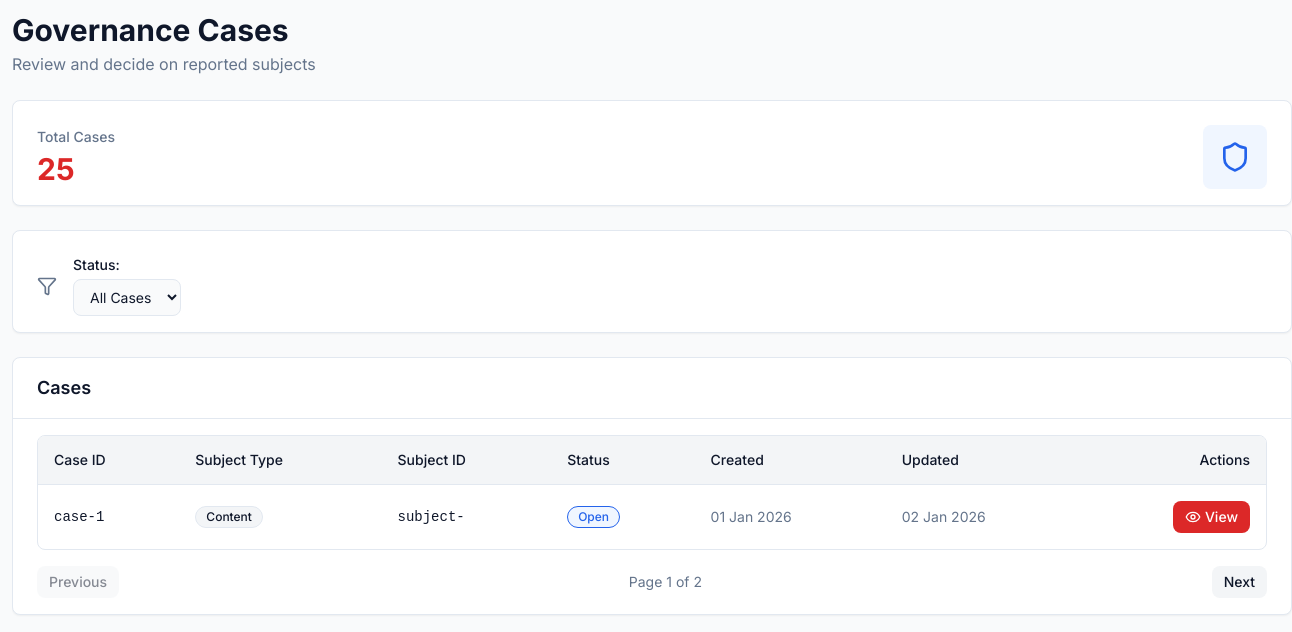
it: GovernanceCasesPage pagination (Task 5D) › derives truthful total pages from the server total and uses canonical pagination
This screenshot has width=1292, height=632.
Expected: the text "Page 1 of 2" is shown, 629,572 -> 702,592
Click the button "Next": (1239, 582) 1212,566 -> 1267,598
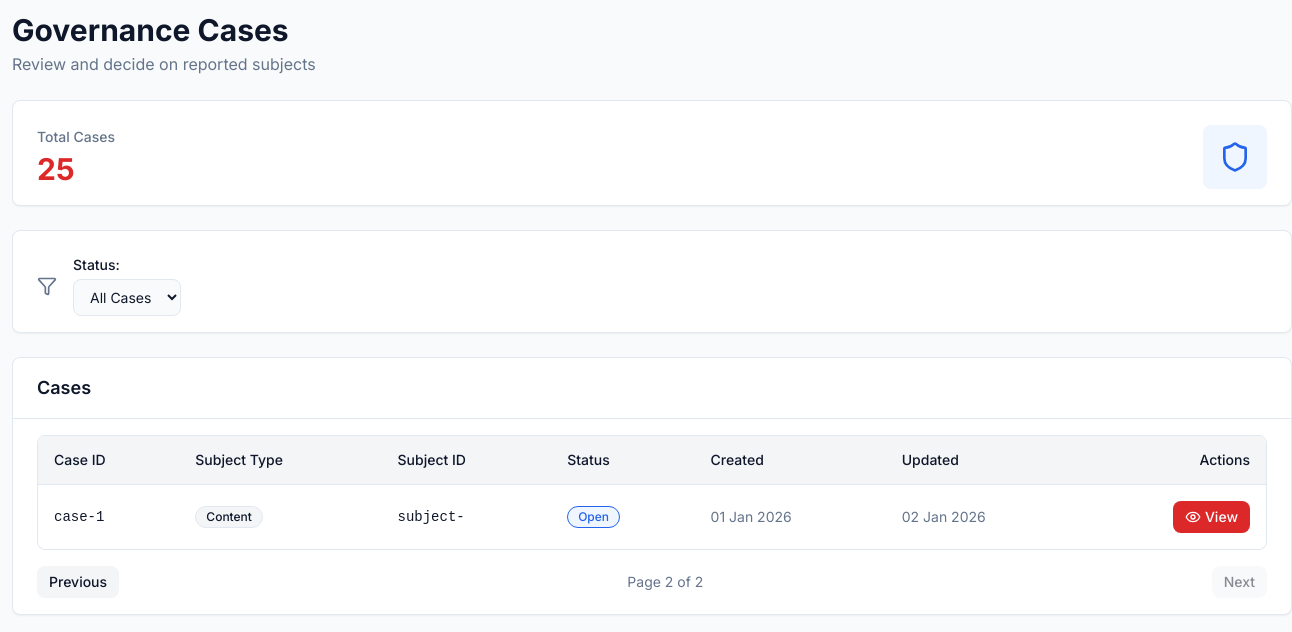
Expected: the text "Page 2 of 2" is shown, 627,572 -> 703,592
